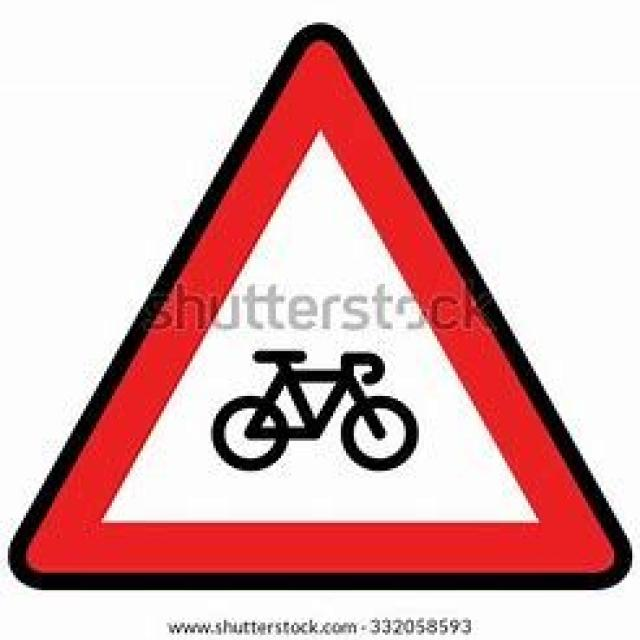cycle_crossing: (0, 20, 635, 588)
